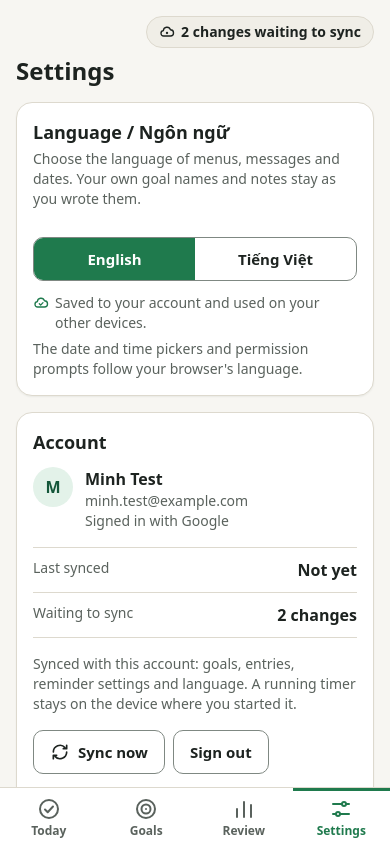
Test: Settings — signed-in copy (M7-AC15, DESIGN S7) › D4 with pending changes: warning with the count; Keep → final sync pushes before signing out
expect the text with test id "pending-count" reads "2 changes": met, box [277, 604, 357, 626]
What coordinates should you click on to do the following:
click the button "Sign out"
I would click on:
 (221, 752)
Its box is [173, 730, 269, 774].
(page scrolled)
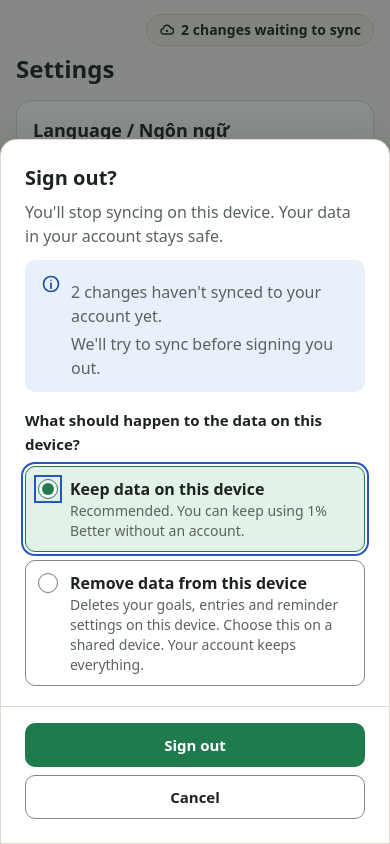
expect the element with test id "unsynced-warning" shows "We'll try to sync before signing you out.": met, box [71, 333, 333, 379]
What coordinates should you click on to do the following:
click the button with test id "signout-confirm"
I would click on:
 (195, 745)
Its box is [25, 723, 365, 767].
(page scrolled)
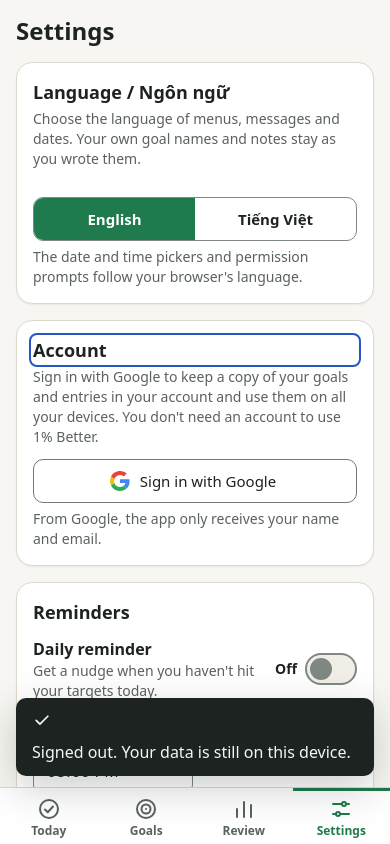
expect the element with test id "status-row" is gone: met
